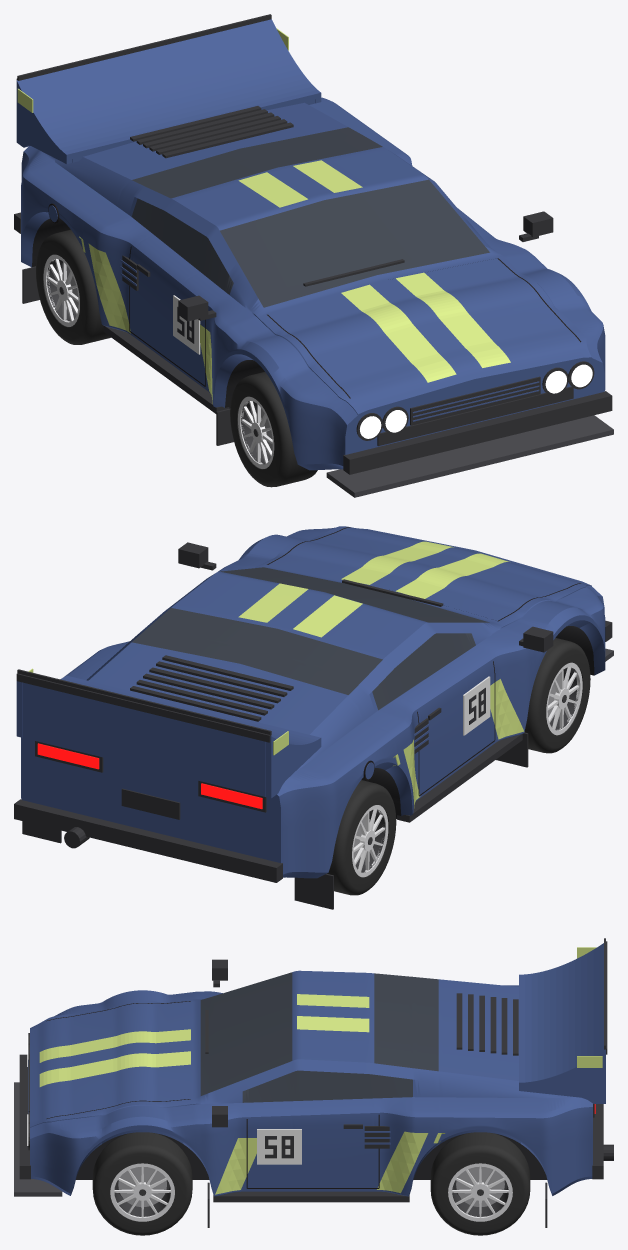
Rendered from flat-mid-engine-coupe.glb.
3 views of the same model, one above another, from view 1: azimuth 30°, elevation 25°; view 2: azimuth 150°, elevation 25°; view 3: azimuth 270°, elevation 25° (orthographic). The views are drawn at different scales.
Visible parts, largest first — view 1: Body, Wheel_FR, Wheel_RR; view 2: Body, Wheel_RR, Wheel_FR; view 3: Body, Wheel_FL, Wheel_RL.
Boxes of the visible parts, x1,y1,x2,y2 form: Body: (14,14,613,497); Wheel_FR: (230,372,317,487); Wheel_RR: (36,229,110,344); Body: (14,526,613,909); Wheel_RR: (327,780,396,895); Wheel_FR: (524,638,590,753); Body: (14,938,613,1227); Wheel_FL: (92,1132,192,1235); Wheel_RL: (430,1132,530,1235).
Size of the model in its own units: 2.28 by 1.24 by 3.73.
